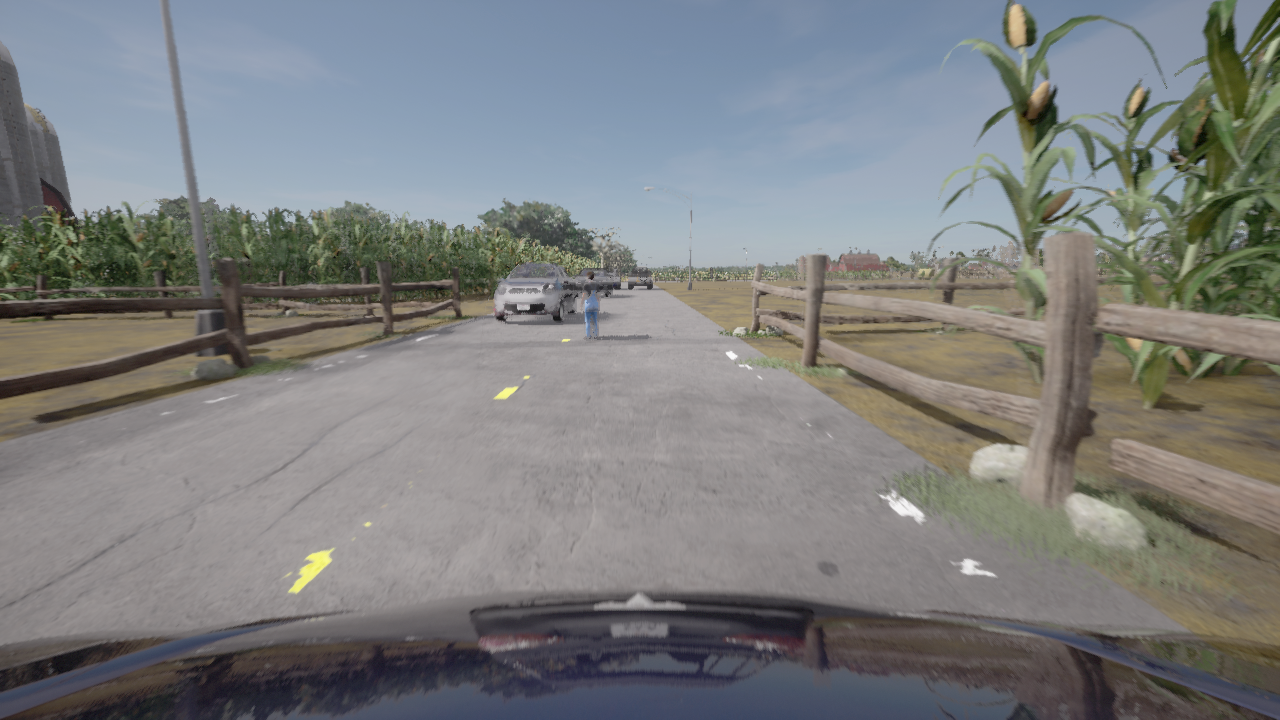cyclist: (0, 588, 1279, 719), (494, 263, 575, 321), (574, 269, 612, 297), (629, 267, 651, 289), (608, 272, 619, 289)
pedestrian: (580, 271, 600, 339)
